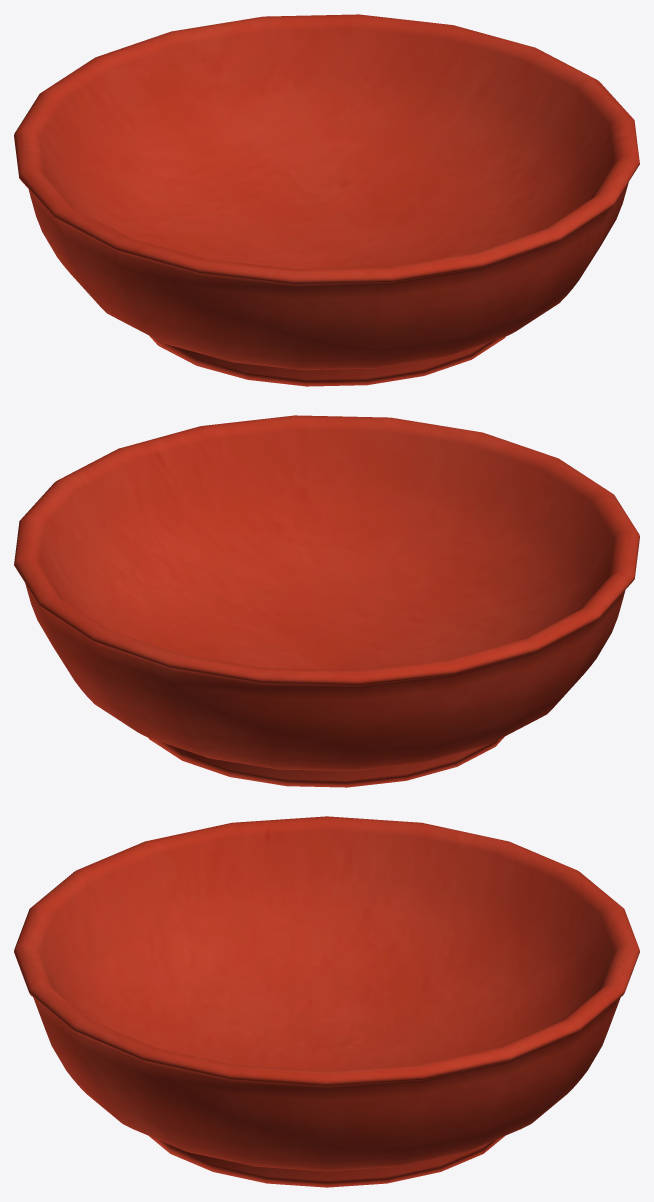
File: obj_roman_bowl_38232c.glb
The picture shows the model from 3 angles, top to bottom: view 1: azimuth 30°, elevation 25°; view 2: azimuth 150°, elevation 25°; view 3: azimuth 270°, elevation 25°; orthographic projection.
Visible parts, largest first — view 1: obj_roman_bowl_38232c; view 2: obj_roman_bowl_38232c; view 3: obj_roman_bowl_38232c.
Part boxes in pixels (x1,y1,x2,y2): obj_roman_bowl_38232c: (14, 14, 639, 386); obj_roman_bowl_38232c: (14, 415, 639, 787); obj_roman_bowl_38232c: (14, 816, 639, 1187).
Size of the model in its own units: 0.6 by 0.1699 by 0.6.
1 material, 1 textured.
